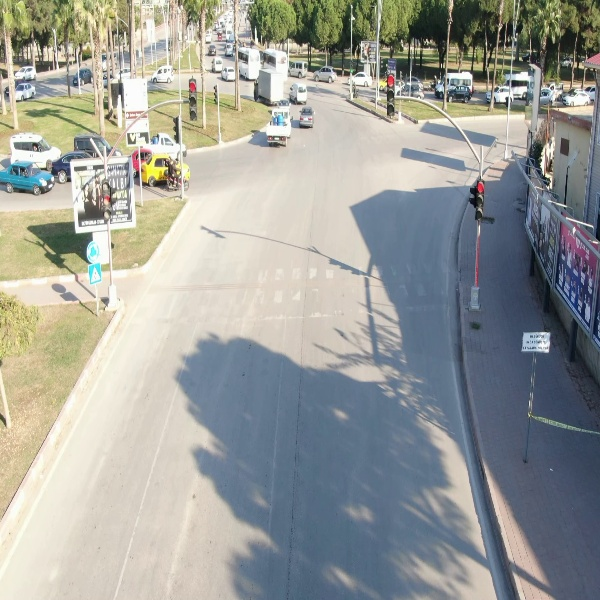car: (2, 160, 53, 199), (9, 132, 60, 170), (312, 63, 340, 88), (289, 79, 310, 110), (297, 103, 317, 135), (487, 85, 514, 108), (444, 83, 476, 101), (559, 90, 590, 108), (14, 81, 39, 103), (151, 62, 176, 84), (347, 71, 374, 90), (287, 58, 310, 78), (15, 64, 37, 79), (211, 54, 224, 75), (222, 65, 235, 86)
